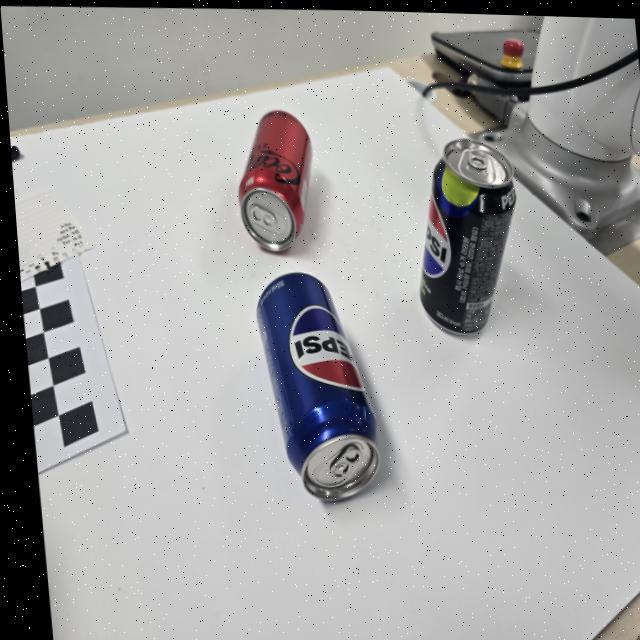can_coke_zero: (238, 110, 312, 250)
can_pepsi: (256, 272, 379, 500)
can_pepsi_zero: (420, 139, 515, 334)
